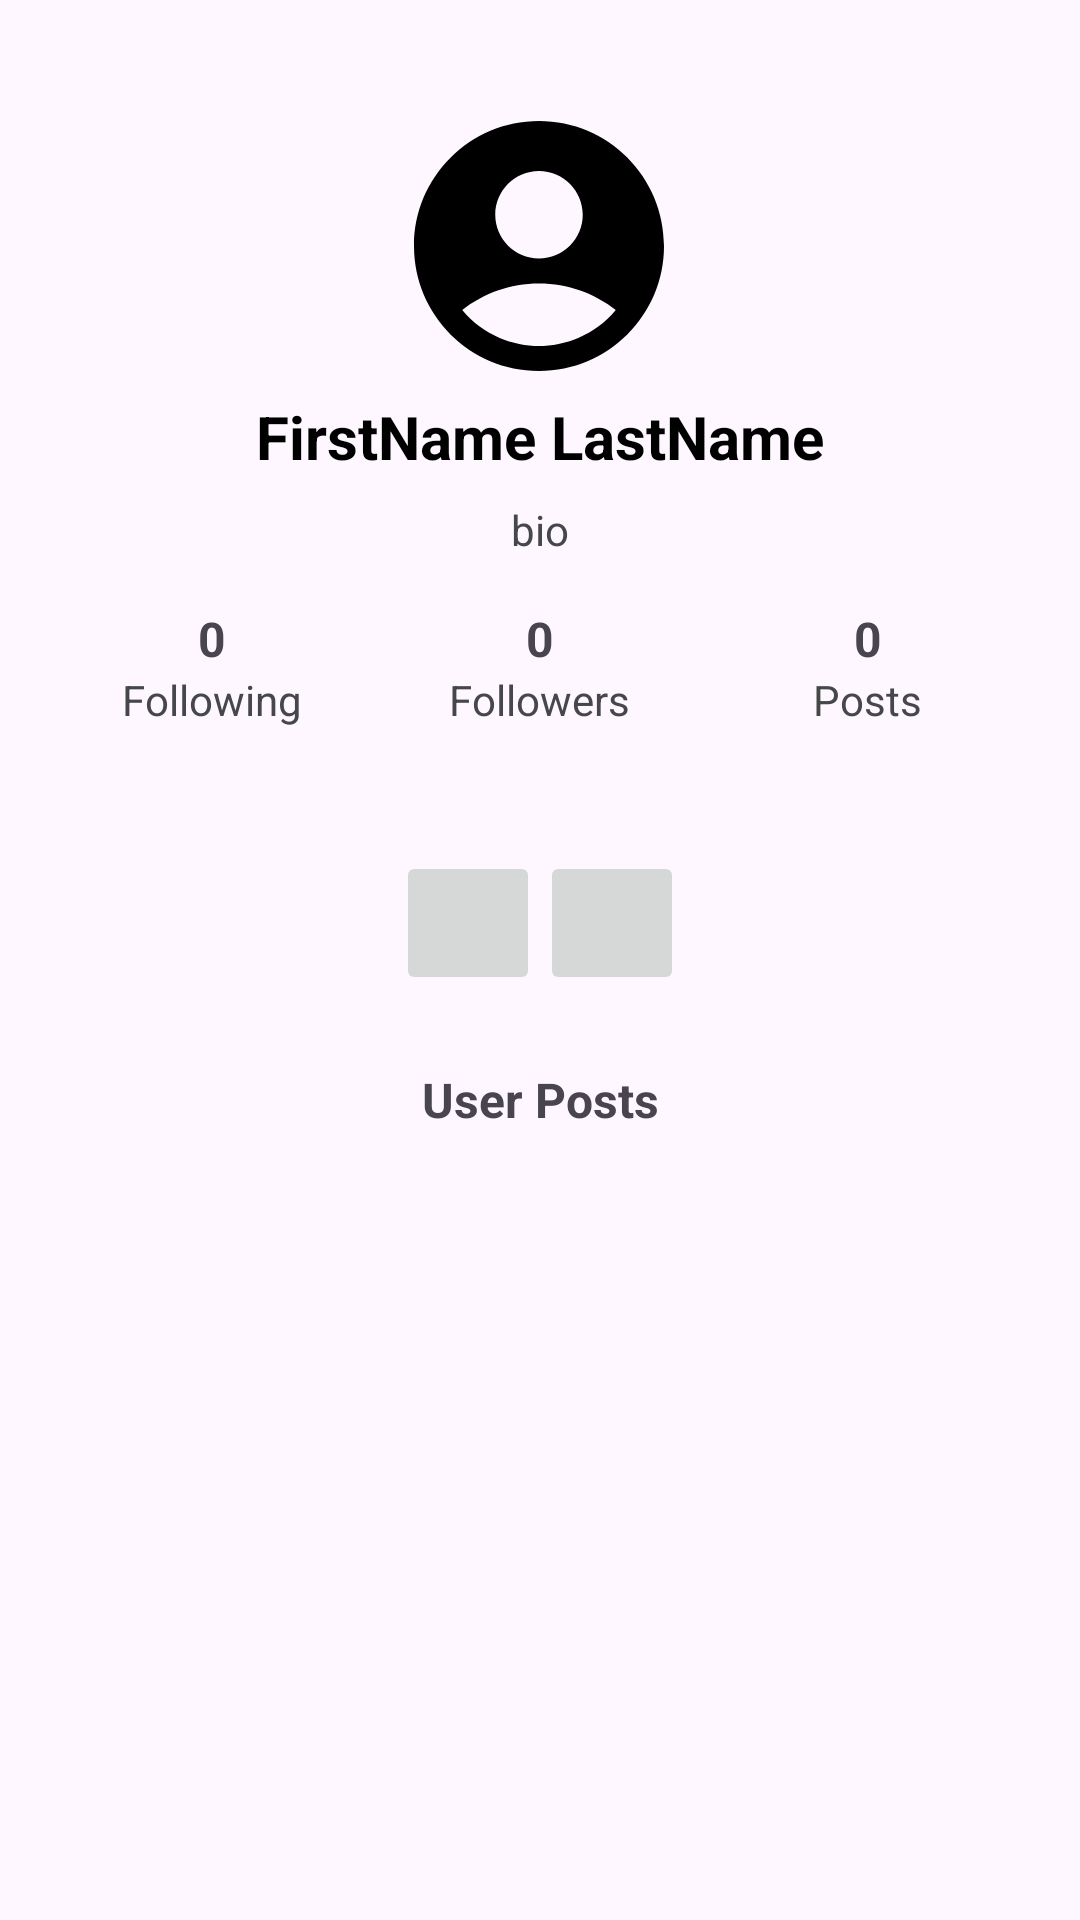

Named icons in this screenshot (1080 x 1920) and their bounding boxes, (x1,y1,x2,y2):
Profile picture: (414,121,664,371)
